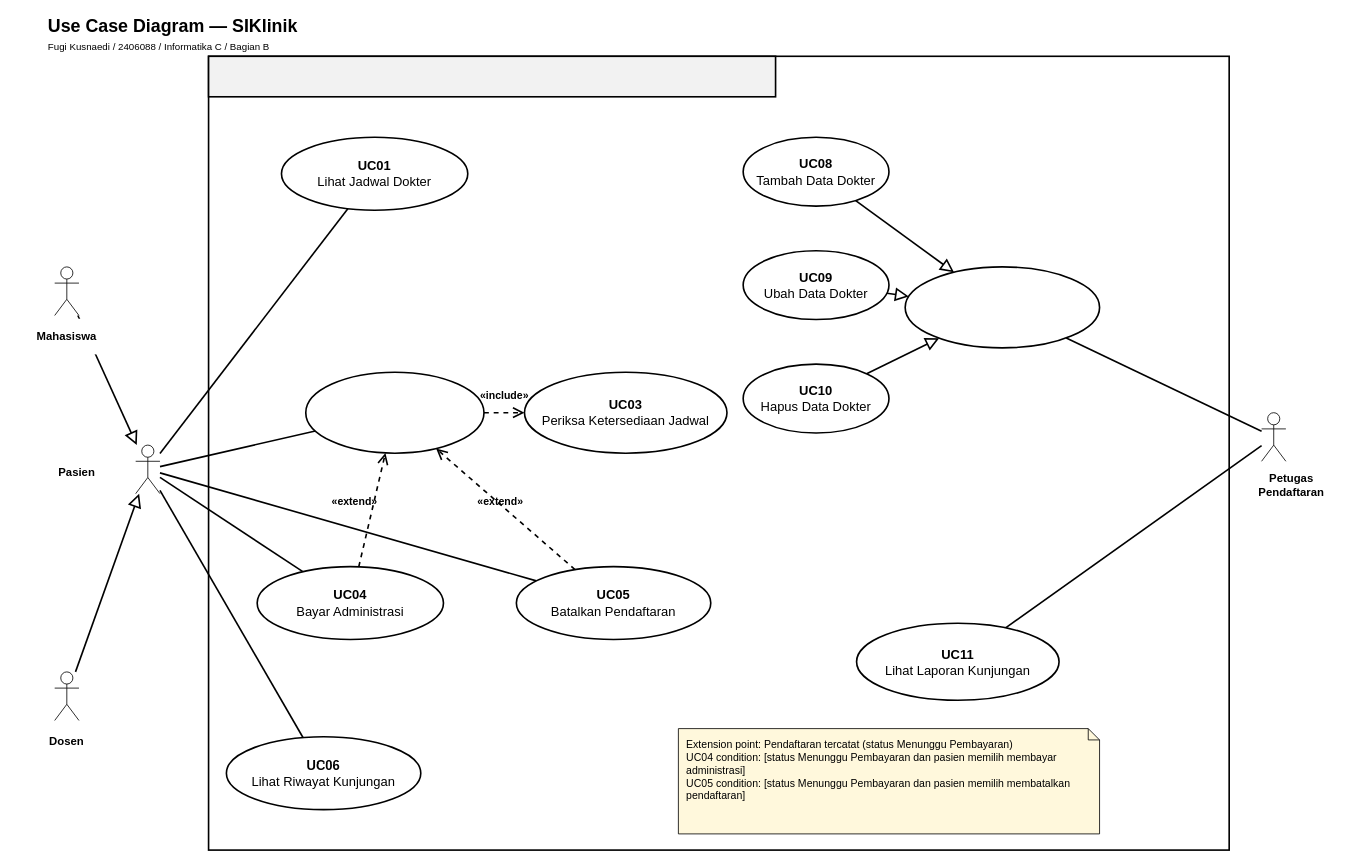
Some shapes in this 1358 by 864 pixel diagram are drawn without their labels. The centre of each missing label's shape, as x and y in pixels:
"SIKlinik — Sistem Informasi Pendaftaran Layanan Klinik Kampus" goes at pixel 491 76.
"UC02 Daftar Berobat" goes at pixel 394 412.
"UC07 Kelola Data Dokter" goes at pixel 1002 307.
